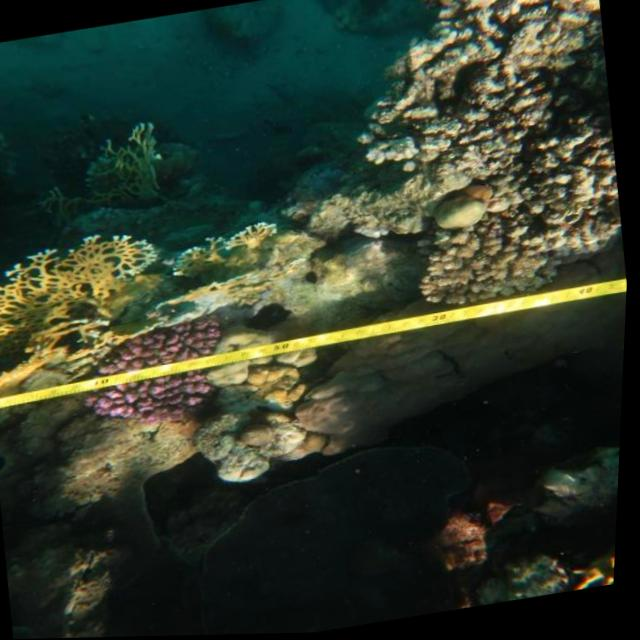Healthy Coral: (0, 222, 185, 396), (71, 313, 241, 436), (165, 217, 299, 291)
